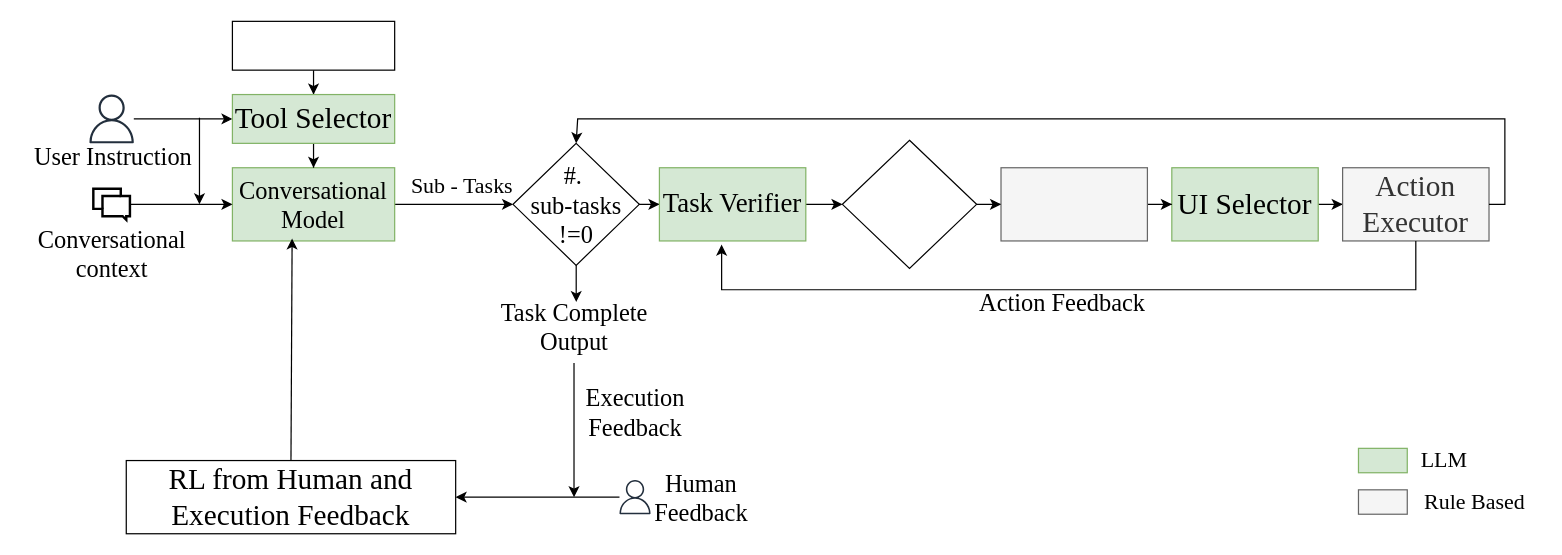
Some shapes in this 1562 by 555 pixel diagram are drawn without their labels. The centre of each missing label's shape, as x and y in pixels:
GUI Tool Set: point (313, 45)
If !(Redundant Task): point (909, 203)
UI Extractor: point (1073, 204)
